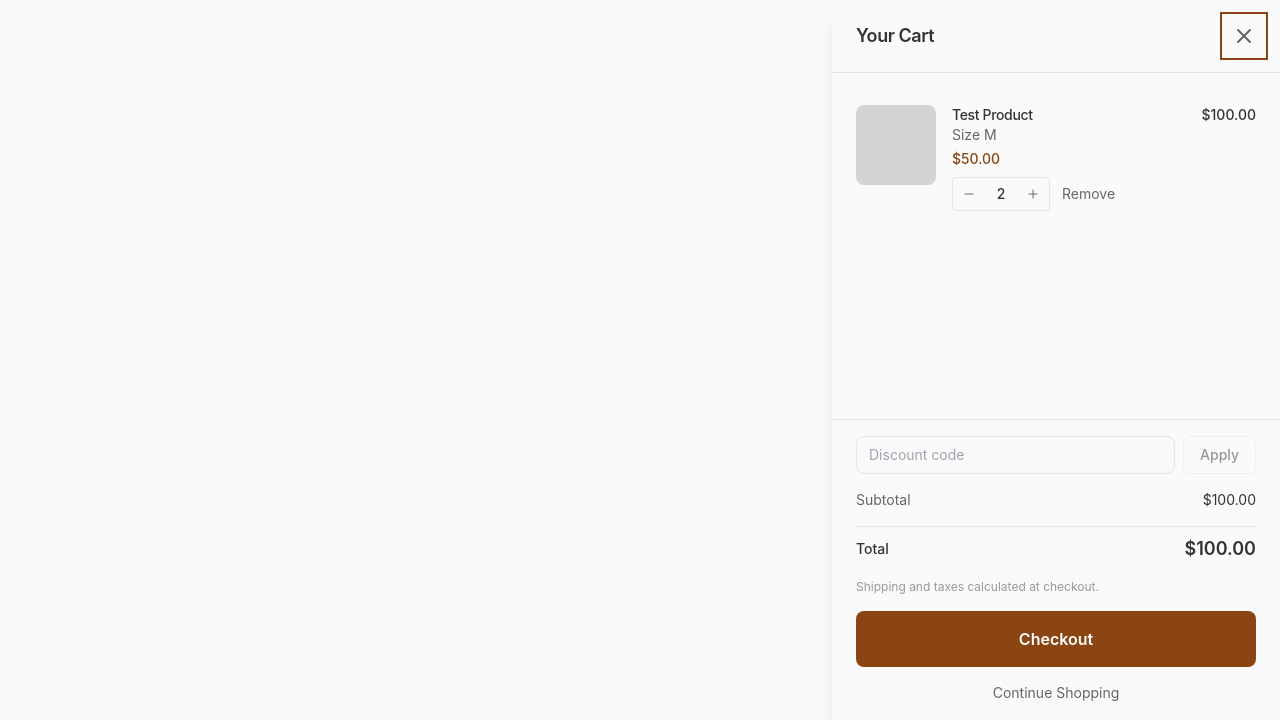
CartDrawer › applying discount code via API › stores applied discount in state
The width and height of the screenshot is (1280, 720).
Type "SAVE10" into the field with placeholder "Discount code" at (1016, 455), box [856,436,1175,474]
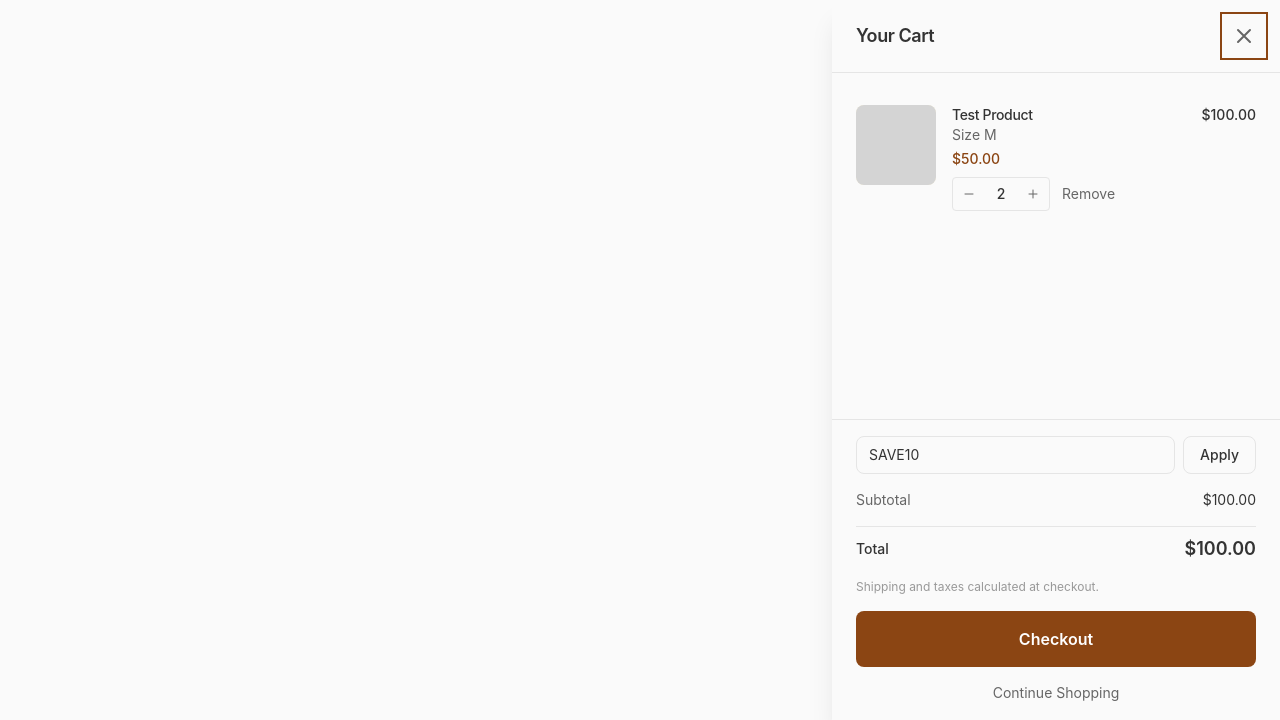
Click the button "Apply" at (1220, 455), box [1183,436,1256,474]
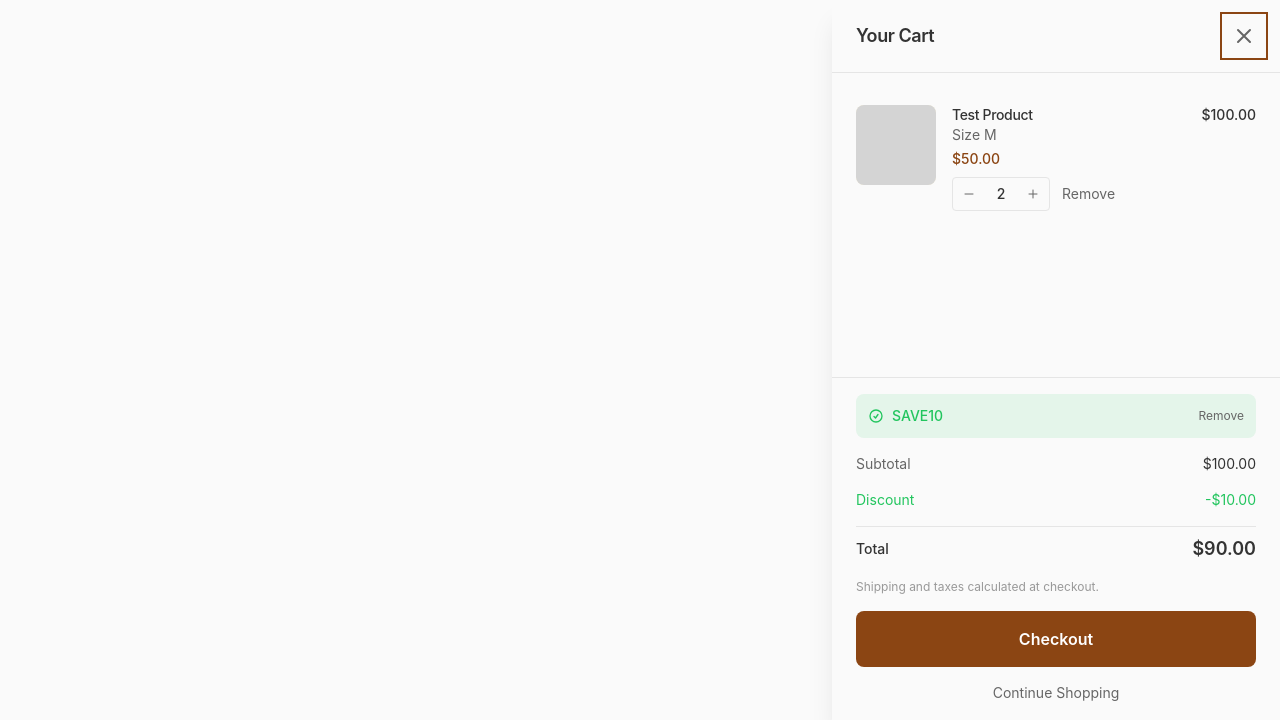
Expected: the text "SAVE10" is shown, [892,406,943,426]
